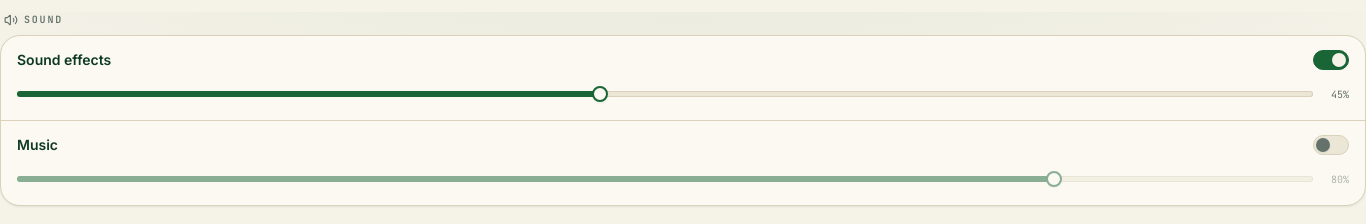
Test: SoundSection volume sliders › persists a committed level as ONE PATCH of that field only
This screenshot has width=1366, height=224.
Set the slider named "Sound effects volume" to "20" at (600, 94), box left=594, top=88, right=606, bottom=100
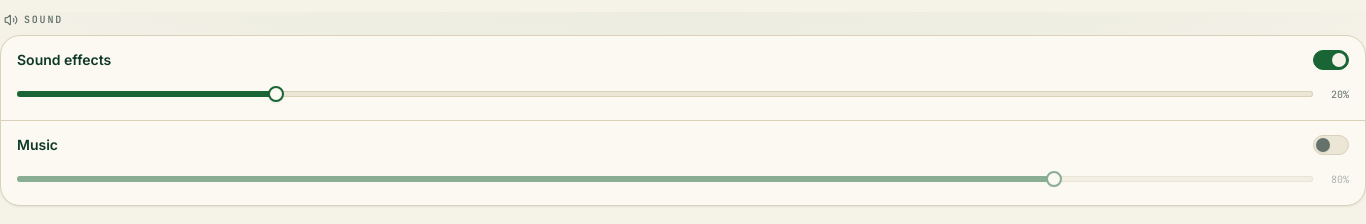
Expected: the element with test id "profile-sound-volume" reads "20%", left=17, top=88, right=1349, bottom=100
